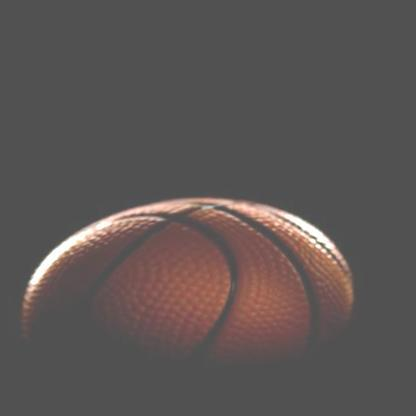basketball: (0, 145, 393, 416)
